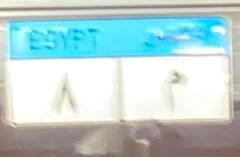8: (52, 70, 93, 118)
م: (159, 68, 189, 118)
